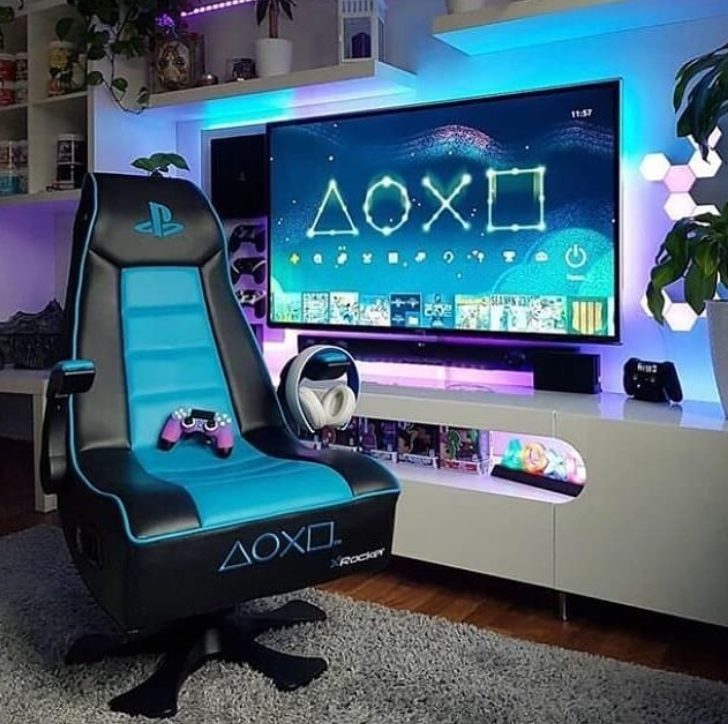gamingconsole: (160, 406, 232, 454)
